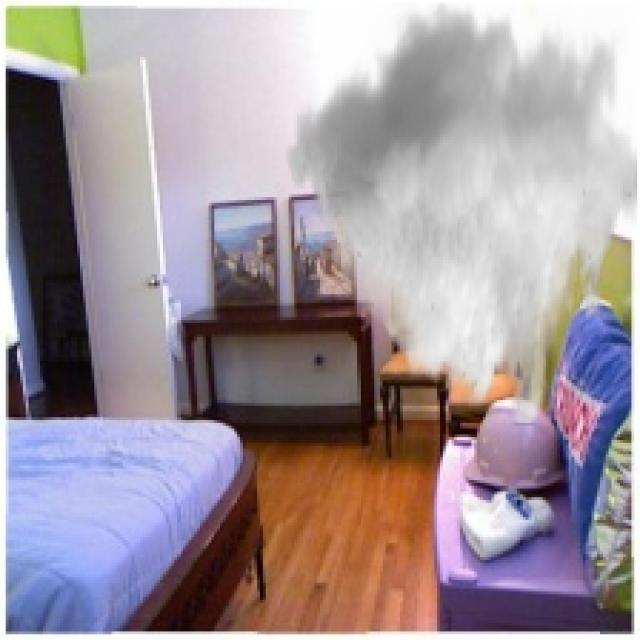Smoke: (280, 3, 637, 426)
